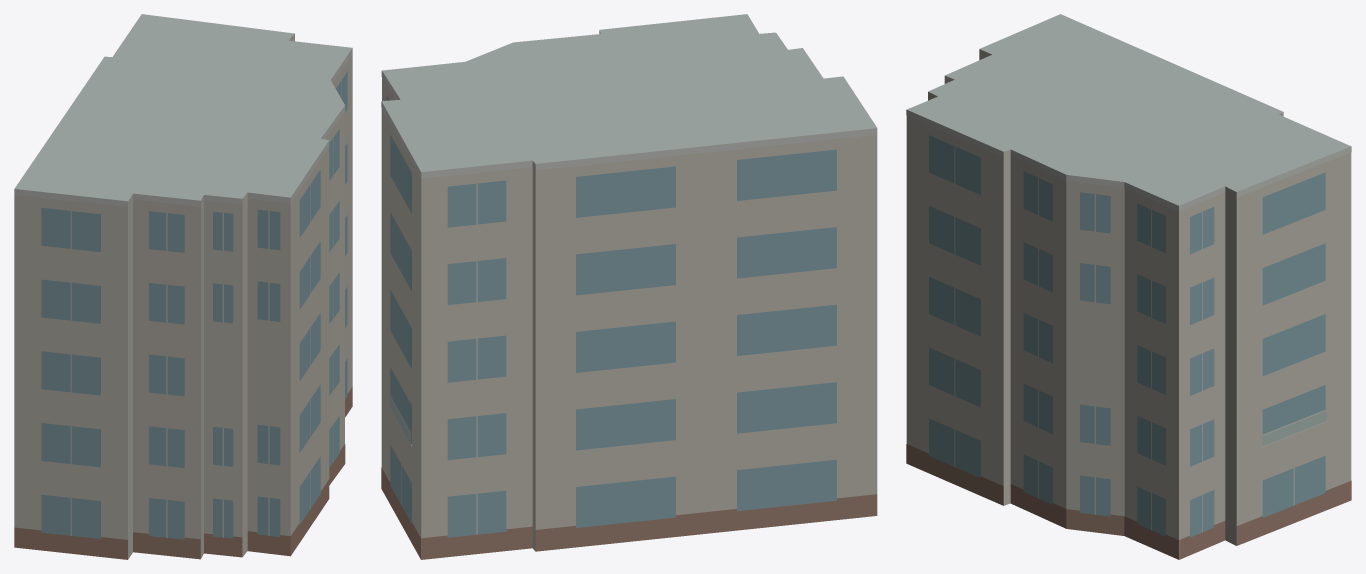
The model's file is survey-upis-32490713.glb.
3 views of the same model, side by side, from view 1: azimuth 30°, elevation 25°; view 2: azimuth 150°, elevation 25°; view 3: azimuth 270°, elevation 25° (orthographic). The views are drawn at different scales.
Visible parts, largest first — view 1: survey-upis-32490713.tmp; view 2: survey-upis-32490713.tmp; view 3: survey-upis-32490713.tmp.
Part boxes in pixels (x1=…): survey-upis-32490713.tmp: x1=14, y1=14, x2=352, y2=559; survey-upis-32490713.tmp: x1=381, y1=14, x2=877, y2=559; survey-upis-32490713.tmp: x1=906, y1=14, x2=1351, y2=559.
Bounding box in the file's own units: 17.21 × 14.8 × 16.87.
